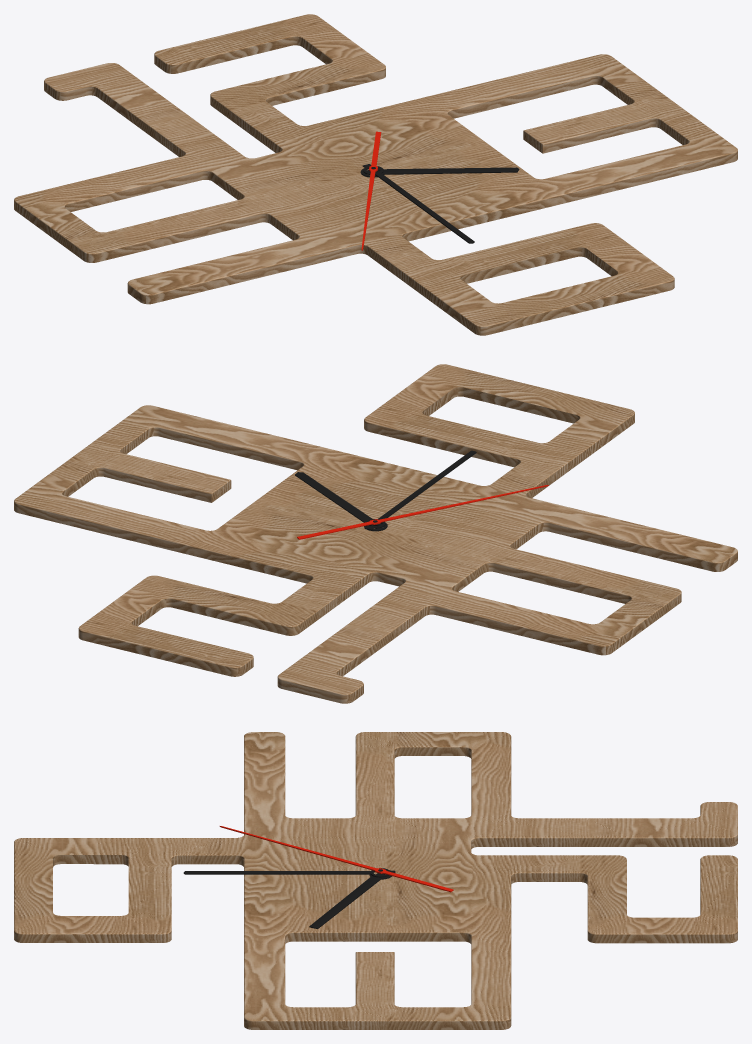
The model's file is wallClock.glb.
3 renders of one model, top to bottom at view 1: azimuth 30°, elevation 25°; view 2: azimuth 150°, elevation 25°; view 3: azimuth 270°, elevation 25°, orthographic.
Visible parts, largest first — view 1: base, hour, minute, seconds; view 2: base, seconds, hour, minute; view 3: base, minute, seconds, hour.
Boxes of the visible parts, box(x1,y1,x2,y2) form: base: box(14, 14, 737, 335); hour: box(360, 167, 519, 177); minute: box(362, 164, 474, 243); seconds: box(361, 131, 381, 250); base: box(14, 364, 737, 703); seconds: box(297, 485, 548, 539); hour: box(295, 472, 387, 531); minute: box(364, 450, 476, 530); base: box(14, 732, 737, 1029); minute: box(183, 868, 395, 877); seconds: box(219, 826, 453, 892); hour: box(309, 870, 391, 928).
Bounding box in the file's own units: 0.3551 × 0.0142 × 0.3759.
3 materials, 1 textured.
